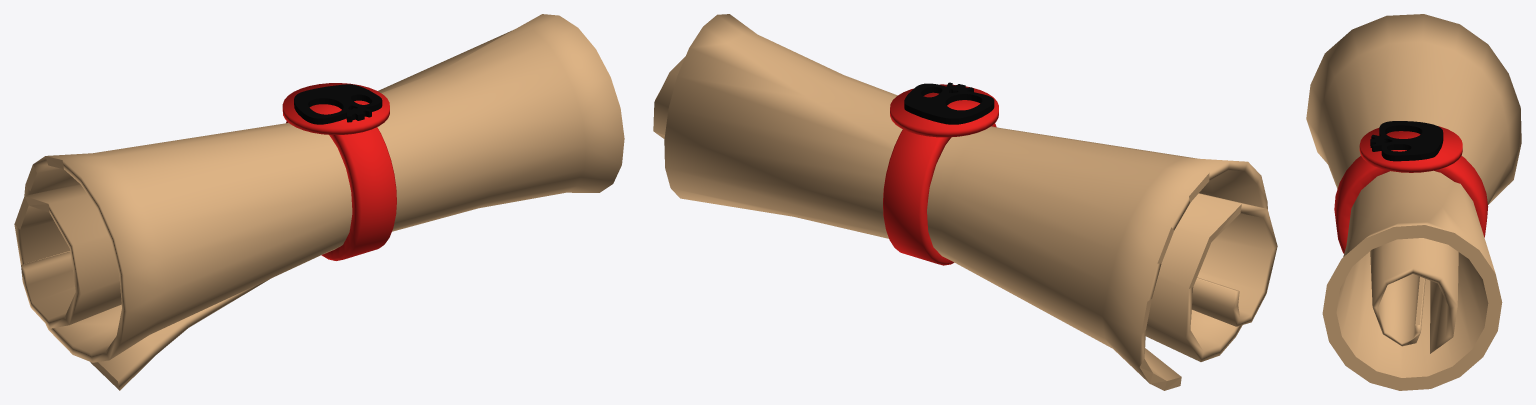
File: Treasure_Map.glb
The picture shows the model from 3 angles, left to right: view 1: azimuth 30°, elevation 25°; view 2: azimuth 150°, elevation 25°; view 3: azimuth 270°, elevation 25°; orthographic projection. The views are drawn at different scales.
Visible parts, largest first — view 1: Treasure_Map; view 2: Treasure_Map; view 3: Treasure_Map.
Boxes of the visible parts, box(x1,y1,x2,y2) form: Treasure_Map: box(14, 14, 624, 390); Treasure_Map: box(653, 14, 1277, 390); Treasure_Map: box(1306, 14, 1521, 390).
Size of the model in its own units: 1.9 by 0.8041 by 0.6461.
